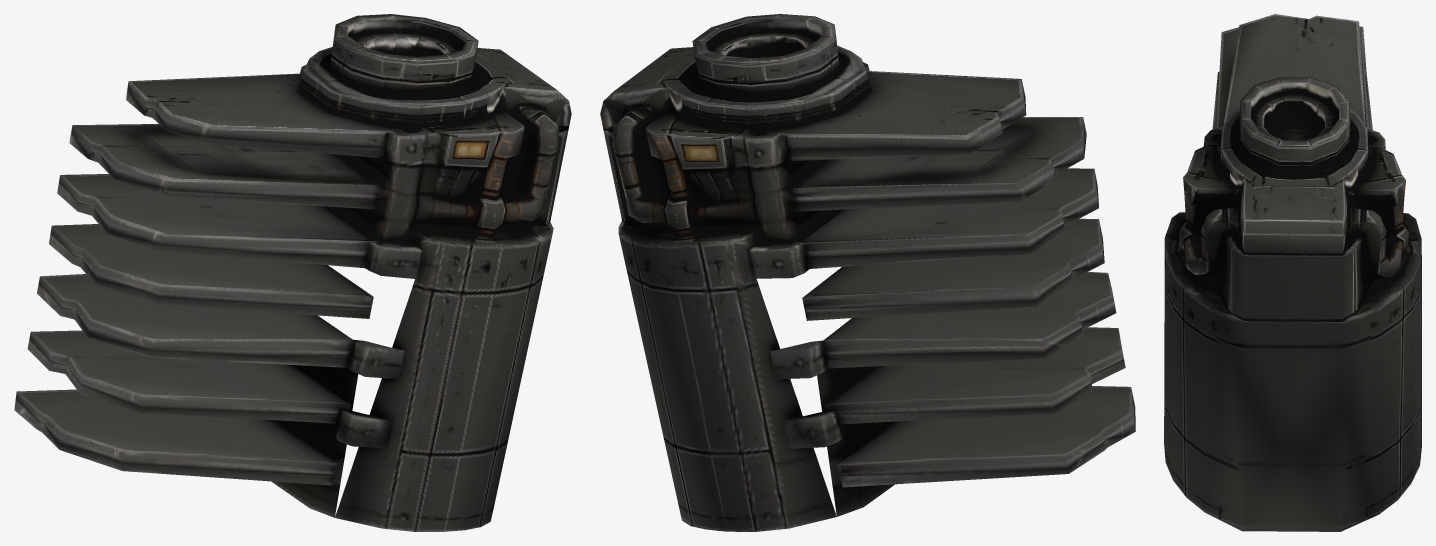
Rendered from cold-iron-v2-heatsink-a-fin-bank.glb.
The picture shows the model from 3 angles, left to right: view 1: azimuth 30°, elevation 25°; view 2: azimuth 150°, elevation 25°; view 3: azimuth 270°, elevation 25°; orthographic projection. The views are drawn at different scales.
Parts seen in each view (by area): view 1: tripo_node_b17290f2-c716-44f1-801f-6710125c9c4a; view 2: tripo_node_b17290f2-c716-44f1-801f-6710125c9c4a; view 3: tripo_node_b17290f2-c716-44f1-801f-6710125c9c4a.
Boxes of the visible parts, bbox=[...] form: tripo_node_b17290f2-c716-44f1-801f-6710125c9c4a: bbox=[14, 14, 571, 531]; tripo_node_b17290f2-c716-44f1-801f-6710125c9c4a: bbox=[600, 14, 1135, 531]; tripo_node_b17290f2-c716-44f1-801f-6710125c9c4a: bbox=[1164, 14, 1421, 531].
Size of the model in its own units: 1.13 by 1.03 by 0.5937.
1 material, 1 textured.
